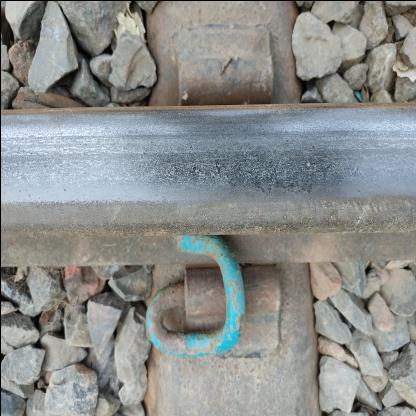Defective: (128, 6, 311, 142)
